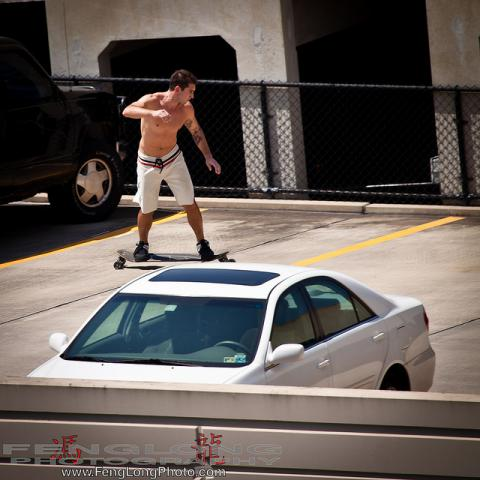car: (24, 263, 435, 392)
truck: (0, 36, 128, 223)
